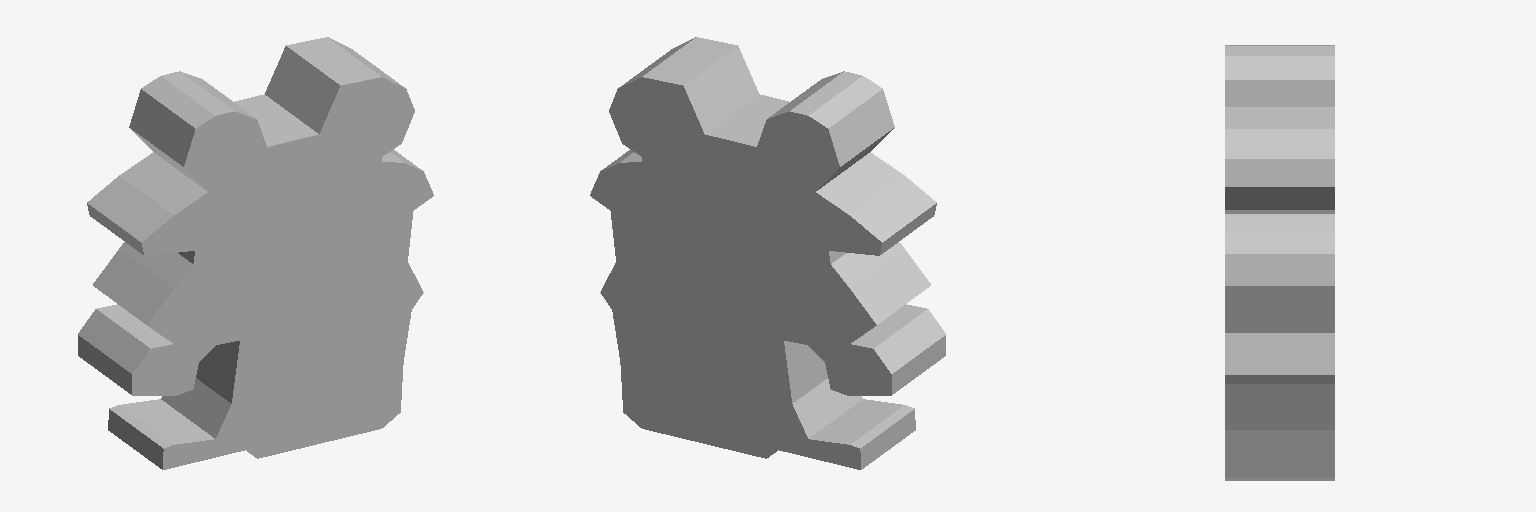
Rendered from ratthief.obj.
The picture shows the model from 3 angles: view 1: azimuth 30°, elevation 25°; view 2: azimuth 150°, elevation 25°; view 3: azimuth 270°, elevation 25°; orthographic projection.
Visible parts, largest first — view 1: ratthief; view 2: ratthief; view 3: ratthief.
Boxes of the visible parts, box(x1,y1,x2,y2) form: ratthief: box(78, 37, 433, 469); ratthief: box(590, 37, 945, 469); ratthief: box(1225, 45, 1334, 480).
Size of the model in its own units: 0.6368 by 0.7121 by 0.2.